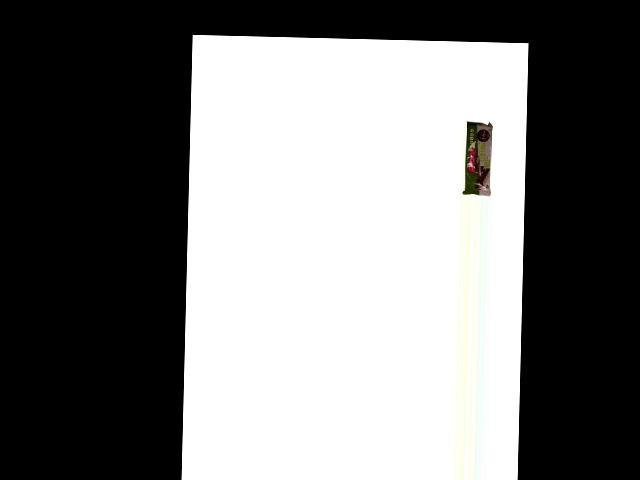chocolate: (463, 119, 495, 195)
